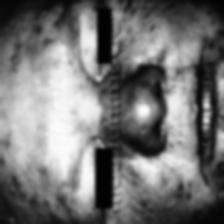Non-Cancerous Skin Condition: (0, 130, 63, 220), (131, 160, 204, 224), (118, 0, 168, 65), (10, 28, 57, 84), (209, 21, 224, 157)
